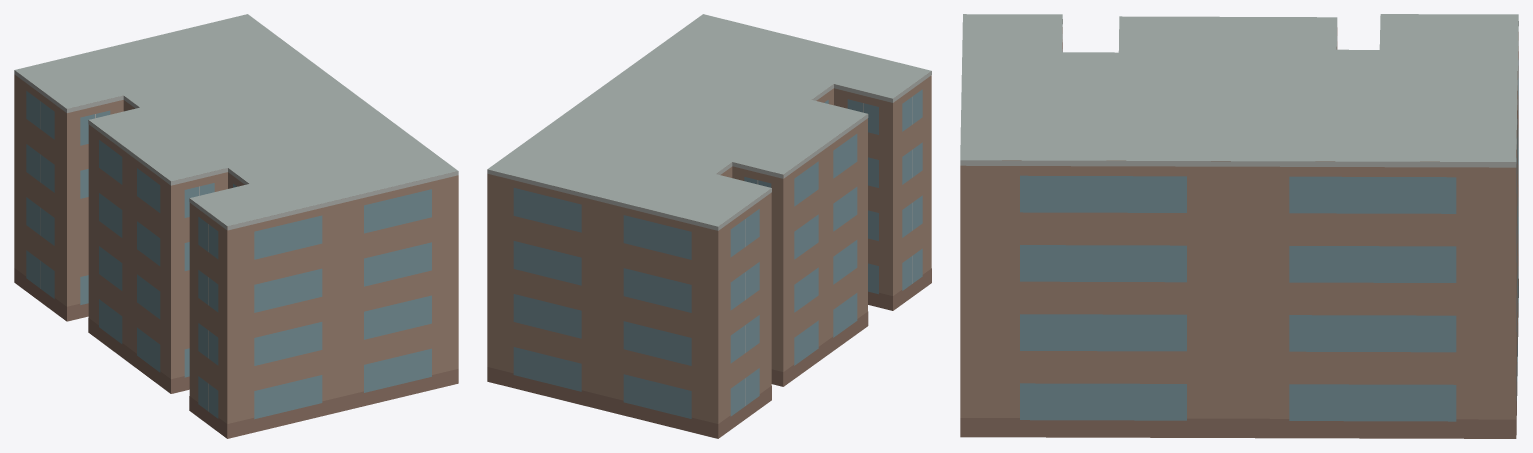
The model's file is residential-522a5ff6-410b-4707-918f-ab27fdeb5d16.glb.
3 renders of one model, left to right at view 1: azimuth 30°, elevation 25°; view 2: azimuth 150°, elevation 25°; view 3: azimuth 270°, elevation 25°, orthographic. The views are drawn at different scales.
Visible parts, largest first — view 1: residential-522a5ff6-410b-4707-918f-ab27fdeb5d16.tmp; view 2: residential-522a5ff6-410b-4707-918f-ab27fdeb5d16.tmp; view 3: residential-522a5ff6-410b-4707-918f-ab27fdeb5d16.tmp.
Part boxes in pixels (x1,y1,x2,y2): residential-522a5ff6-410b-4707-918f-ab27fdeb5d16.tmp: (14,14,458,438); residential-522a5ff6-410b-4707-918f-ab27fdeb5d16.tmp: (487,14,931,438); residential-522a5ff6-410b-4707-918f-ab27fdeb5d16.tmp: (960,14,1518,438).
Bounding box in the file's own units: 14 × 12.2 × 22.32.
